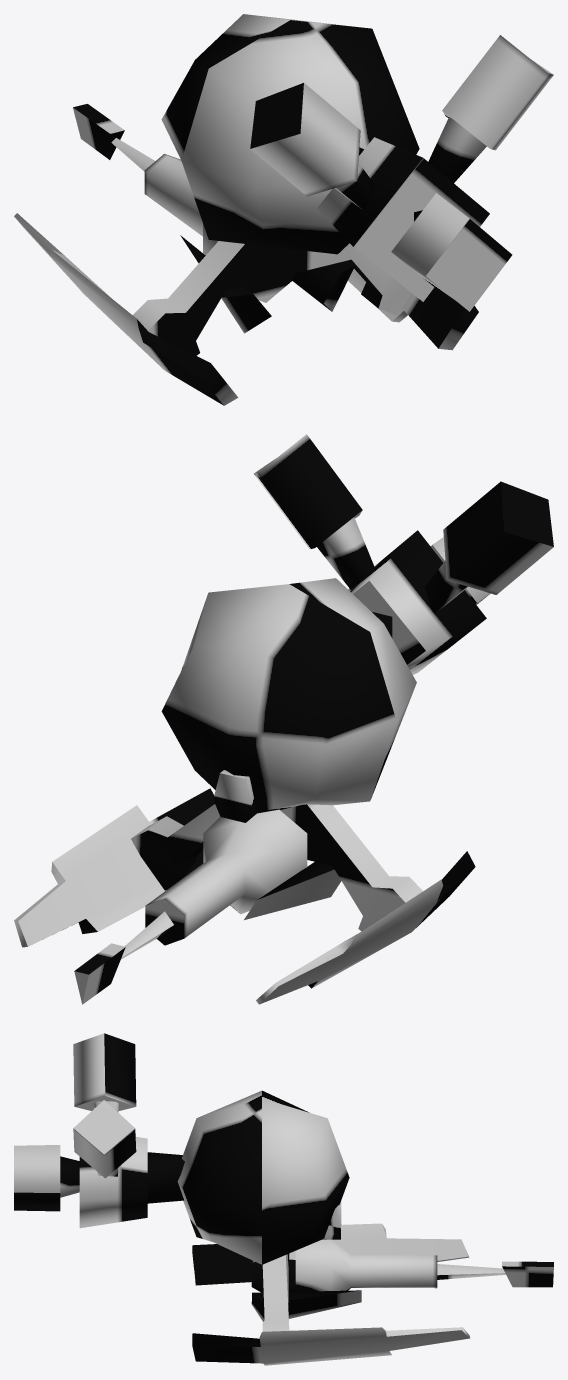
The model's file is pet_2.obj.
The picture shows the model from 3 angles, top to bottom: view 1: azimuth 30°, elevation 25°; view 2: azimuth 150°, elevation 25°; view 3: azimuth 270°, elevation 25°; orthographic projection. The views are drawn at different scales.
Visible parts, largest first — view 1: main; view 2: main; view 3: main.
Boxes of the visible parts, <box> form: main: <box>14,14,553,405</box>; main: <box>14,434,553,1004</box>; main: <box>14,1033,553,1365</box>.
Size of the model in its own units: 25.54 by 29.8 by 55.87.
1 material, 1 textured.
